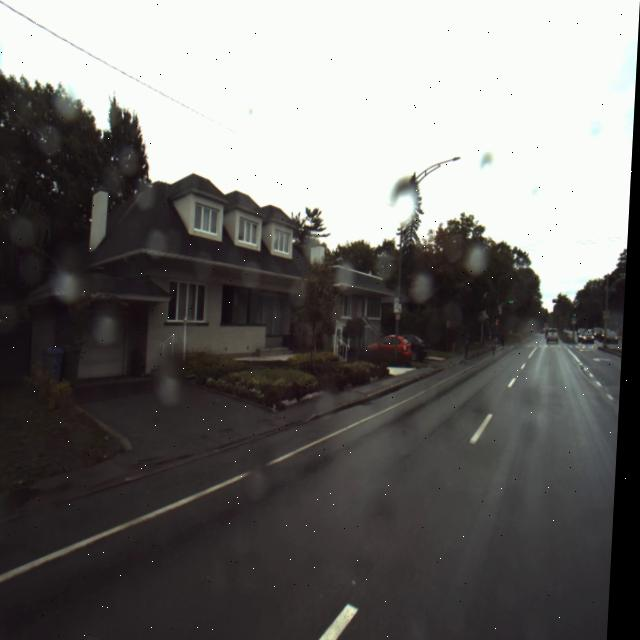car: (371, 333, 416, 364), (414, 334, 433, 362), (549, 327, 563, 345), (585, 330, 599, 344), (609, 330, 623, 344)
trafficLight-Green: (510, 298, 519, 305), (576, 312, 580, 317)
